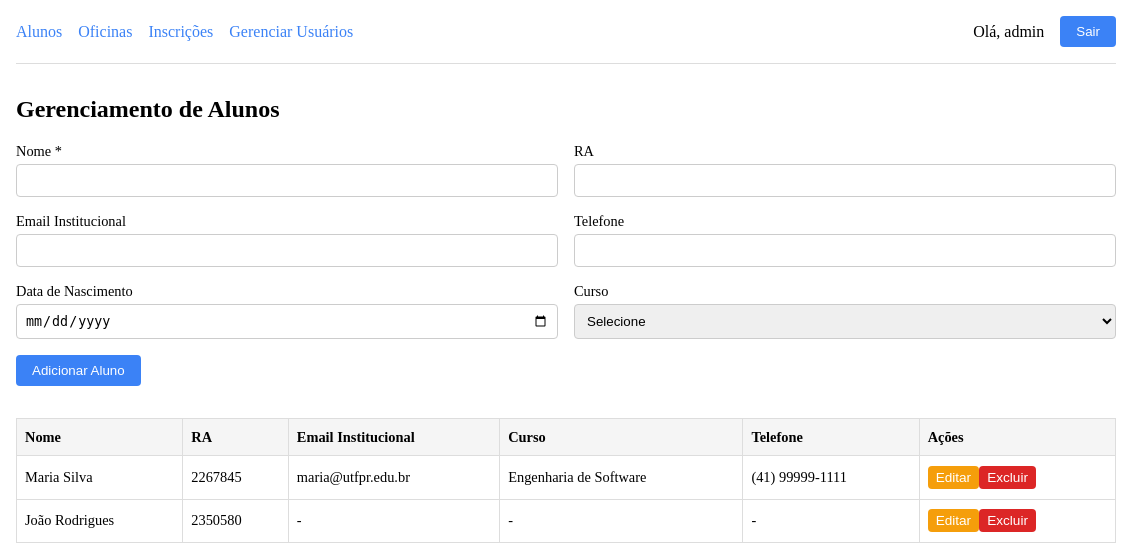
Scenario: AlunosView › botão "Cancelar" aparece ao entrar no modo de edição
This screenshot has width=1133, height=560.
Step 1. Click the button with class "btn-editar" in the row of "Maria Silva" → {"x": 953, "y": 478}, box [928,466,979,489]
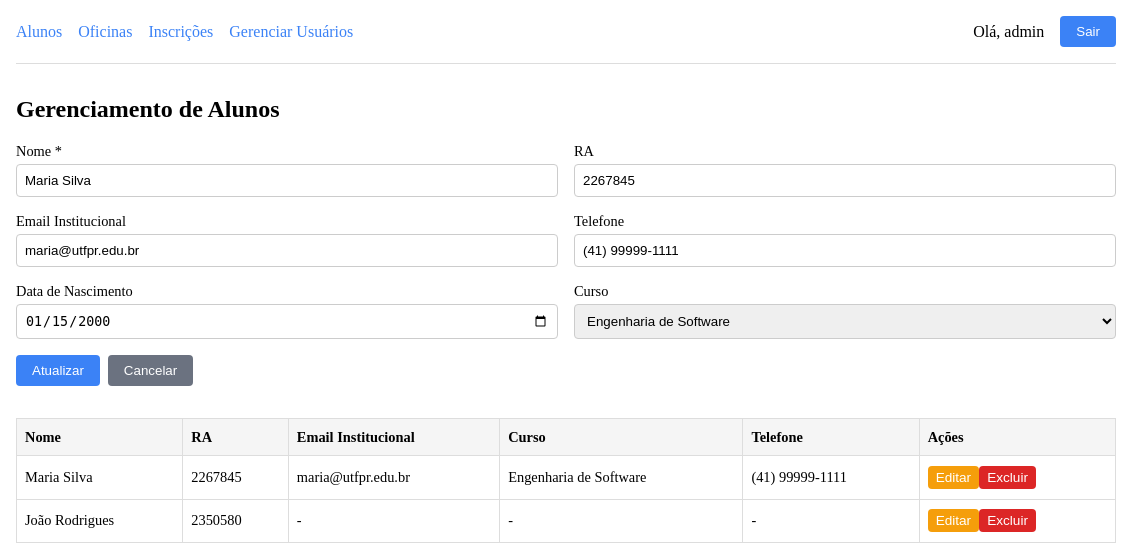
Now the button with class "btn-cancelar" is shown, box [108,355,193,386]
